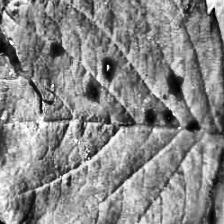Leaf Spot: (0, 0, 224, 224), (184, 0, 224, 152), (182, 134, 224, 223)
